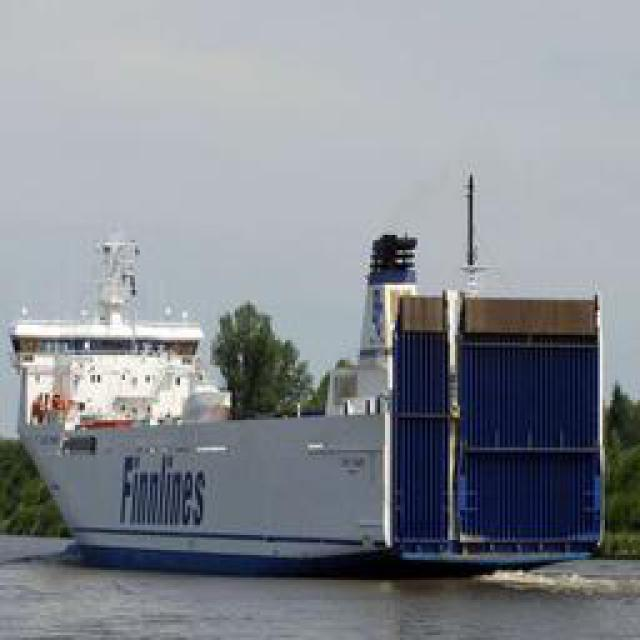Ship: (23, 195, 598, 588)
